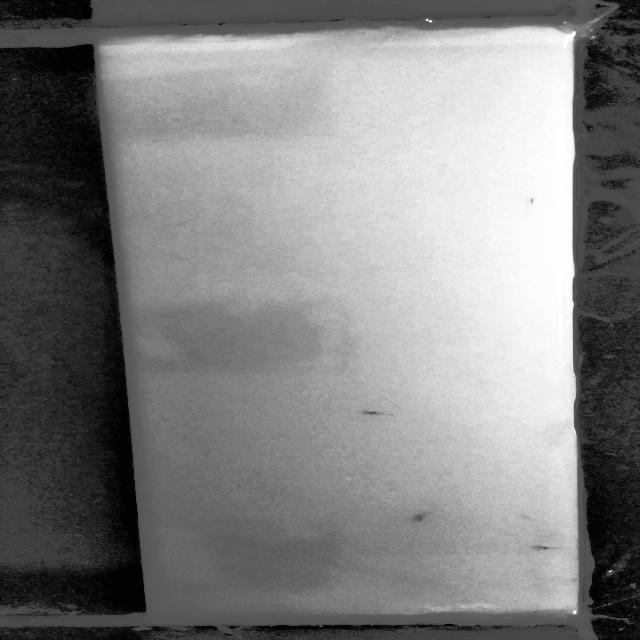shrimp: (357, 408, 402, 421), (524, 540, 566, 552), (406, 509, 432, 522), (524, 197, 540, 207)
